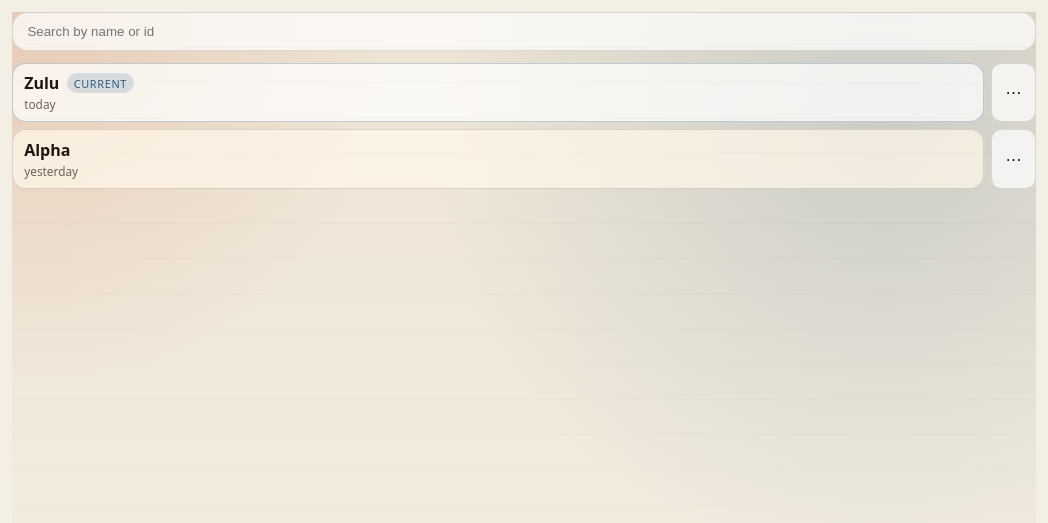
Test: WorkspacesPanel › keeps a rejected rename draft and restores focus on cancel
Click the button named "Actions for workspace Zulu": (1013, 92) [991,63,1036,122]
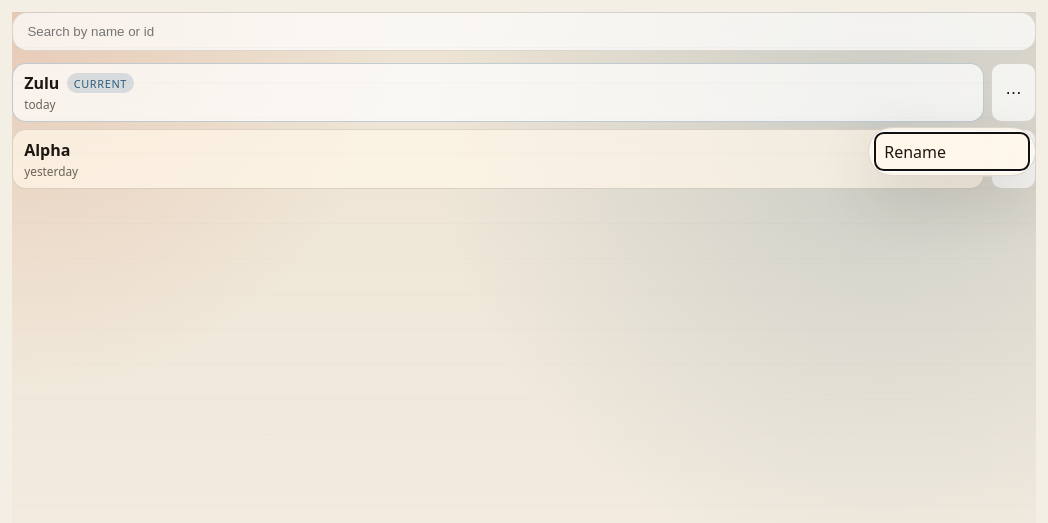
Click the menu item "Rename": (952, 152) [875,133,1029,170]
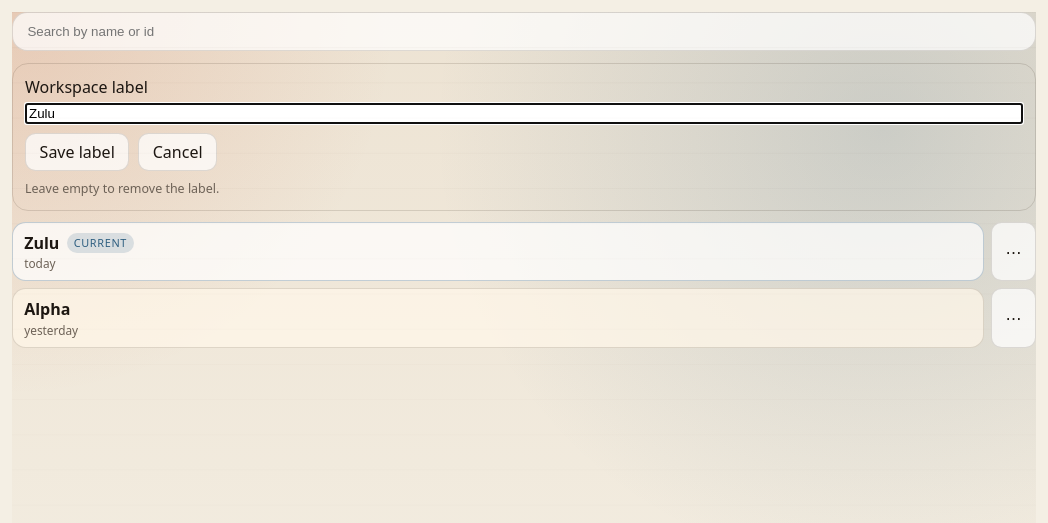
Replace the text in the field labelled "Workspace label" with "Planning": (524, 114) [25,103,1023,124]
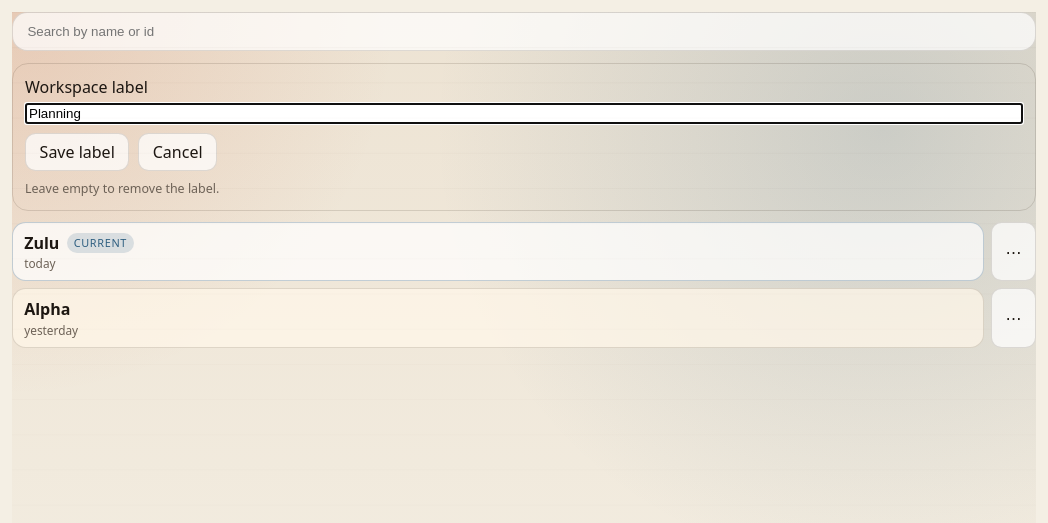
Click the button "Save label": (77, 152) [25,133,129,171]
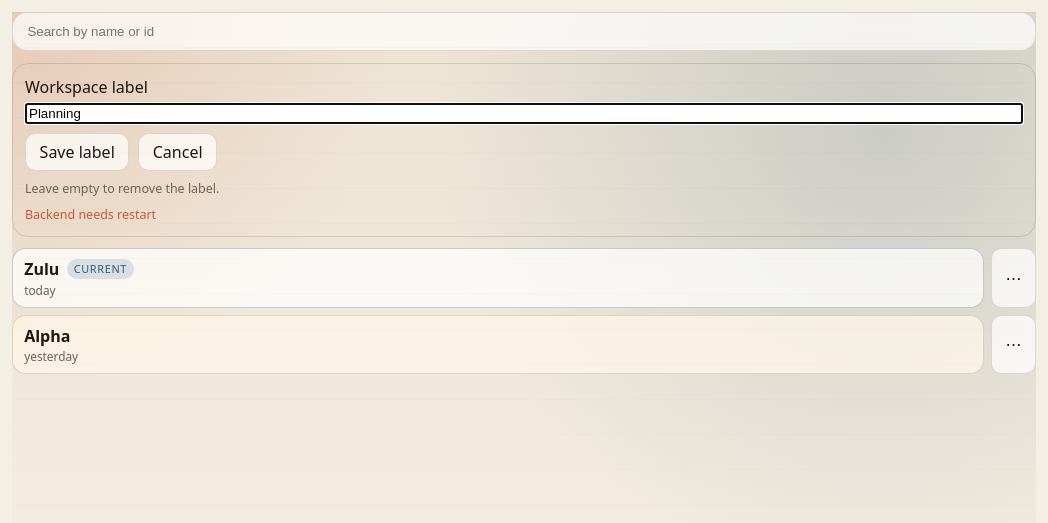
Check: the message reads "Backend needs restart", box [25,206,156,223]
Press Escape in the field labelled "Workspace label", box [25,103,1023,124]
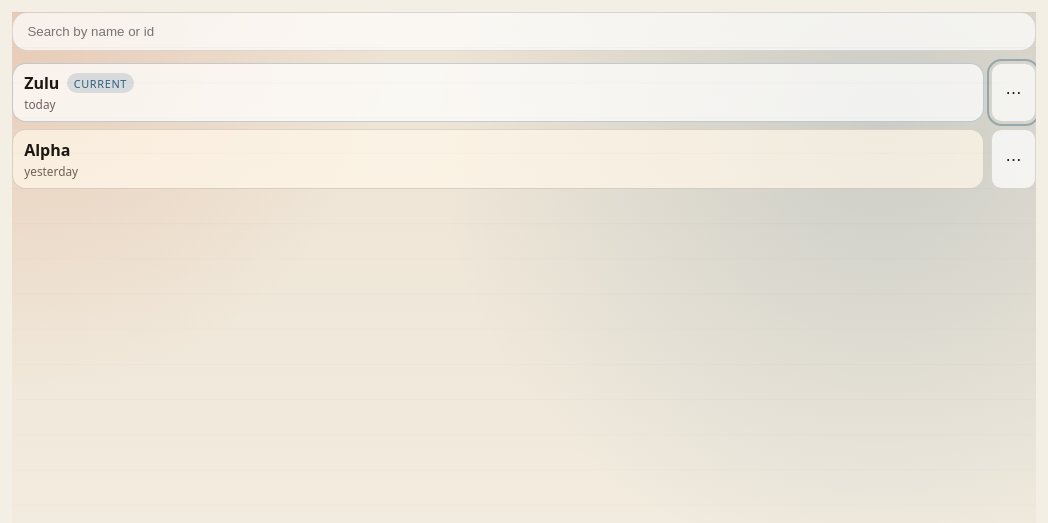
Check: the field is gone
